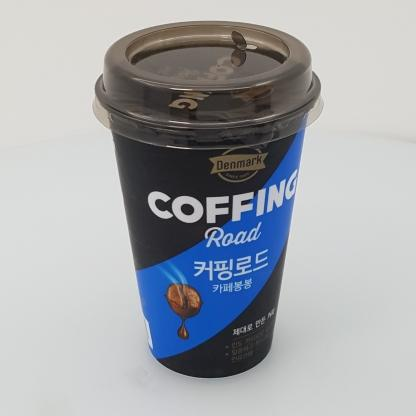---------: (92, 21, 323, 379)
